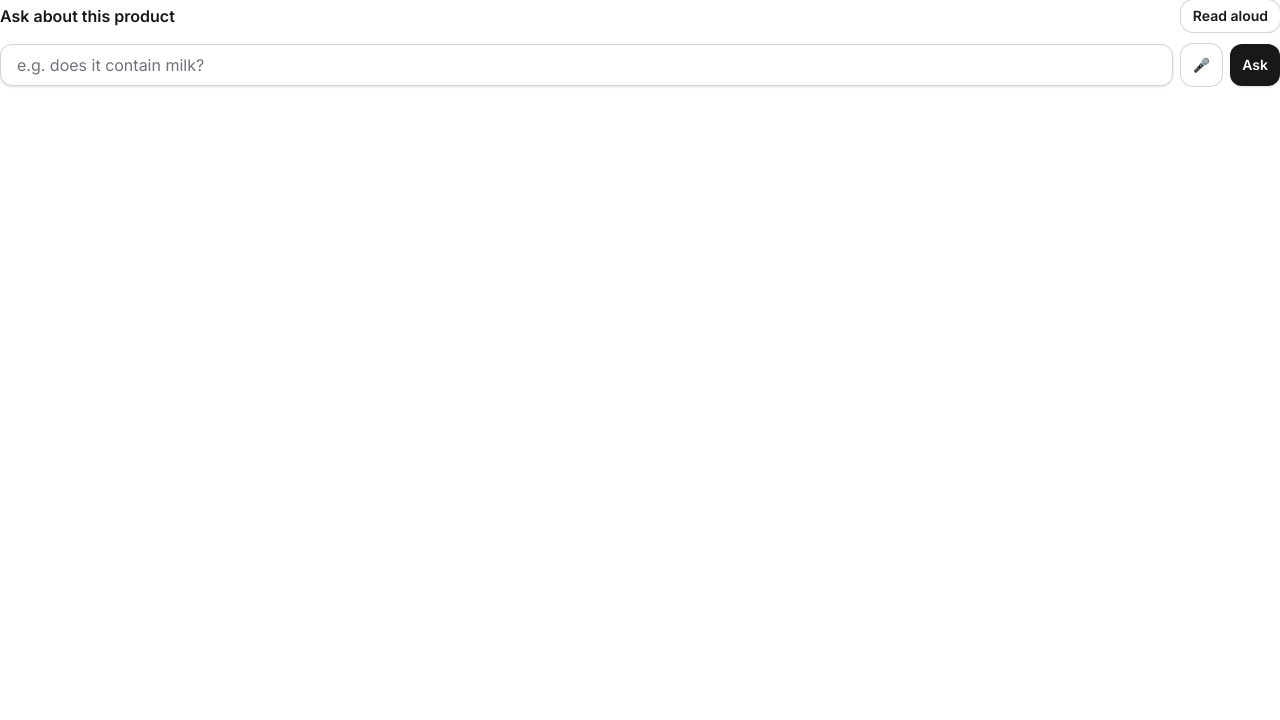
Scenario: [VOICE-7] voice input needs a tap and a one-time notice › asks first, then listens and answers what it heard
This screenshot has width=1280, height=720.
Click the button named "Ask by voice": coordinates (1202, 65) [1181, 44, 1222, 86]
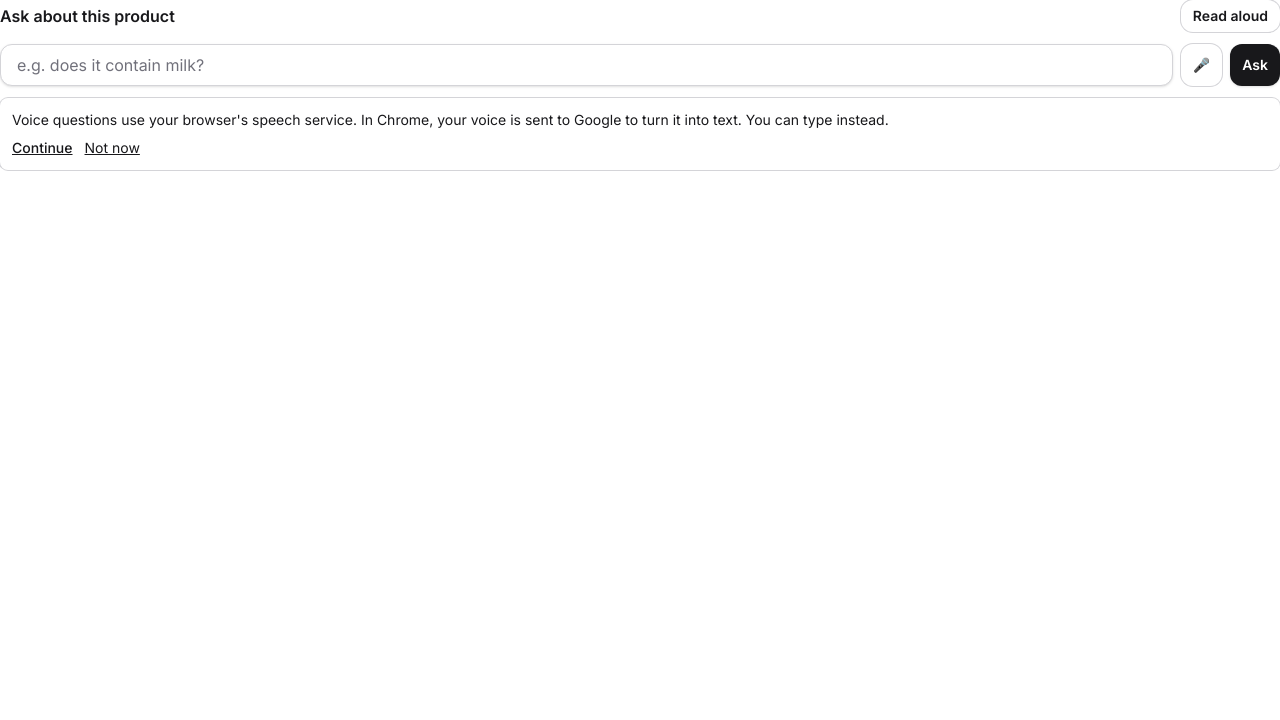
Expected: the dialog shows "sent to Google", [12, 111, 889, 128]
Click the button "Continue": coordinates (42, 148) [12, 138, 72, 158]
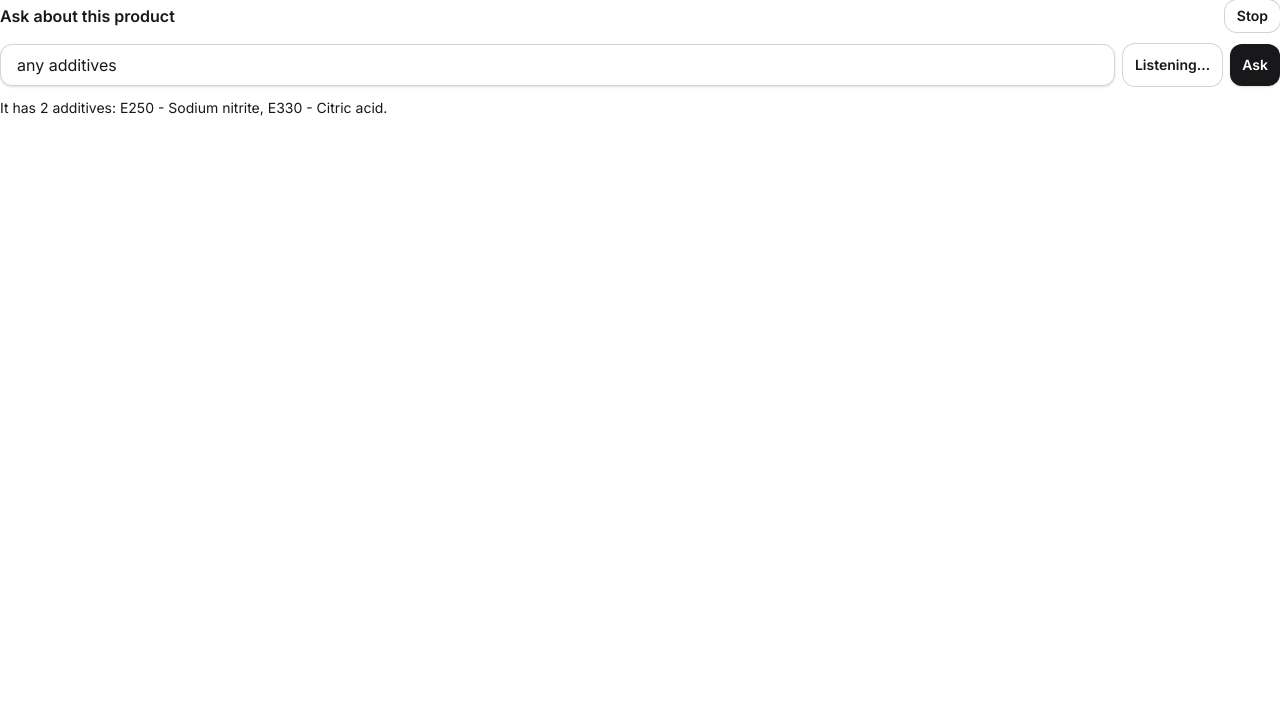
Expected: the text "E250 - Sodium nitrite" is shown, [0, 99, 387, 116]
